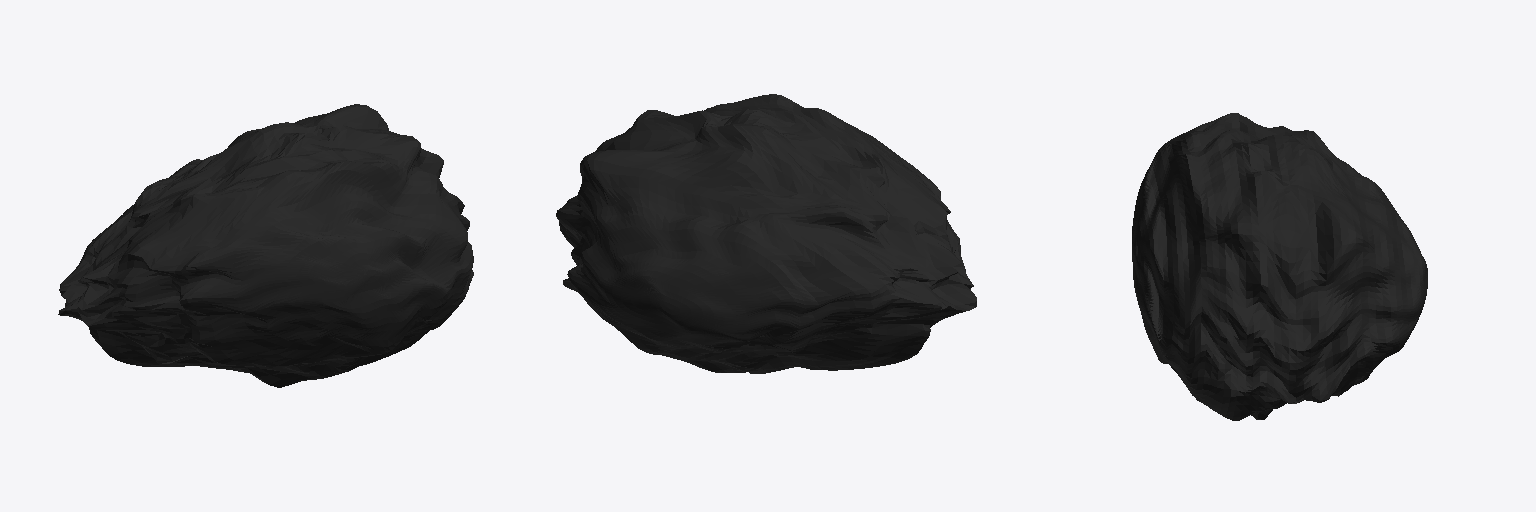
File: asteroid.obj
The picture shows the model from 3 angles: view 1: azimuth 30°, elevation 25°; view 2: azimuth 150°, elevation 25°; view 3: azimuth 270°, elevation 25°; orthographic projection.
Visible parts, largest first — view 1: Sphere01; view 2: Sphere01; view 3: Sphere01.
Boxes of the visible parts, box(x1,y1,x2,y2) form: Sphere01: box(58, 104, 473, 387); Sphere01: box(556, 94, 976, 373); Sphere01: box(1132, 113, 1427, 420).
Size of the model in its own units: 3.33 by 1.98 by 2.11.